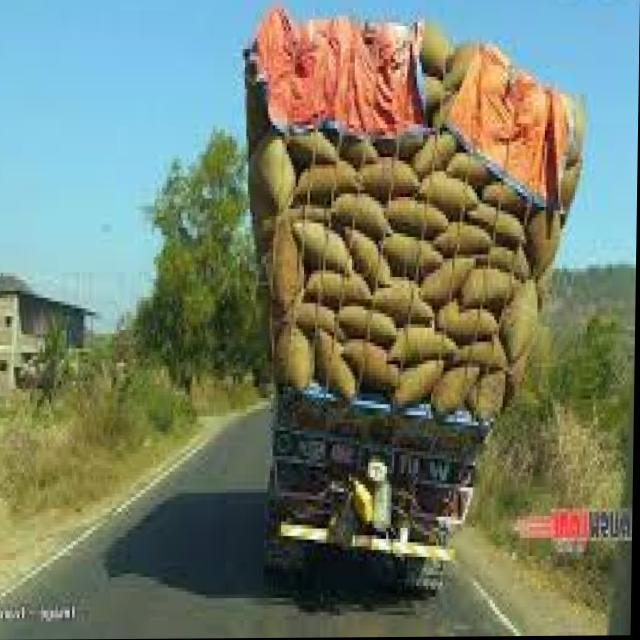uncovered: (233, 19, 588, 594)
